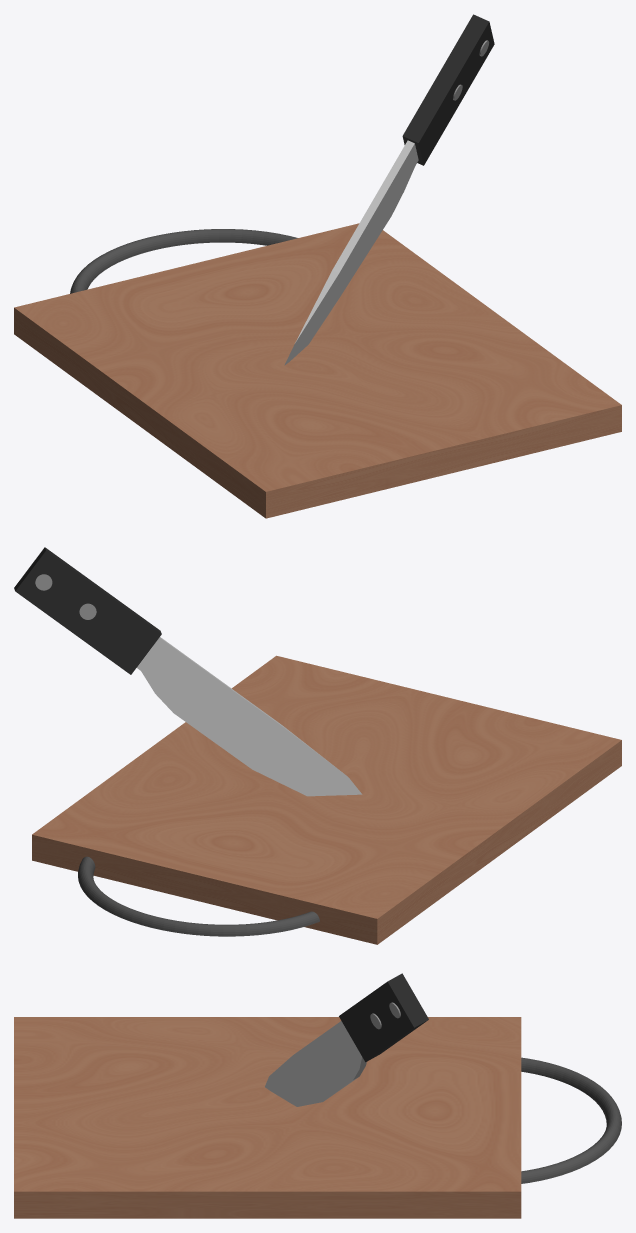
The model's file is chop.fbx.
The picture shows the model from 3 angles, top to bottom: view 1: azimuth 30°, elevation 25°; view 2: azimuth 150°, elevation 25°; view 3: azimuth 270°, elevation 25°; orthographic projection. The views are drawn at different scales.
Visible parts, largest first — view 1: Cube, Knife, Sphere; view 2: Cube, Knife, Sphere; view 3: Cube, Knife, Sphere.
Boxes of the visible parts, box(x1,y1,x2,y2) form: Cube: box(14, 223, 621, 518); Knife: box(284, 14, 494, 365); Sphere: box(70, 229, 297, 293); Cube: box(32, 655, 621, 944); Knife: box(14, 547, 362, 796); Sphere: box(78, 856, 319, 936); Cube: box(14, 1017, 521, 1218); Knife: box(265, 973, 428, 1106); Sphere: box(521, 1057, 621, 1183).
Bounding box in the file's own units: 272 × 162 × 332.
